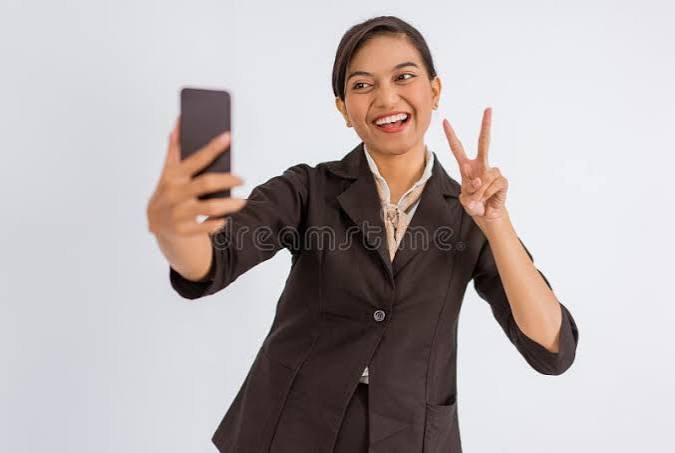peace_sign: (441, 107, 509, 218)
